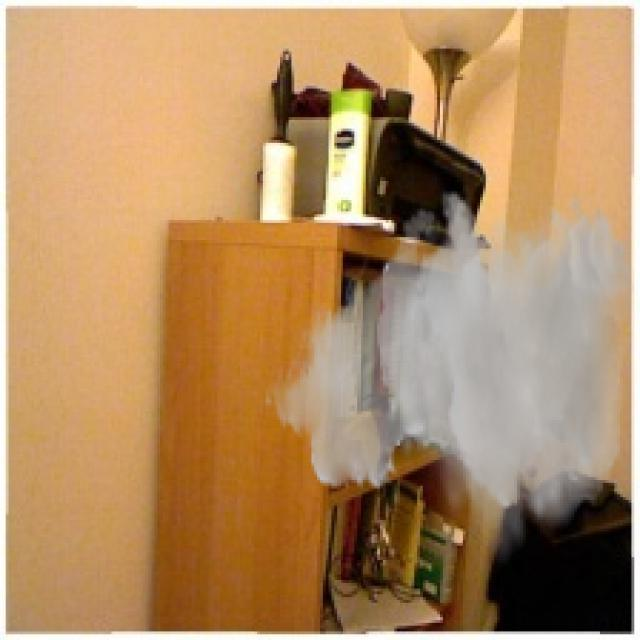Smoke: (262, 188, 634, 572)
